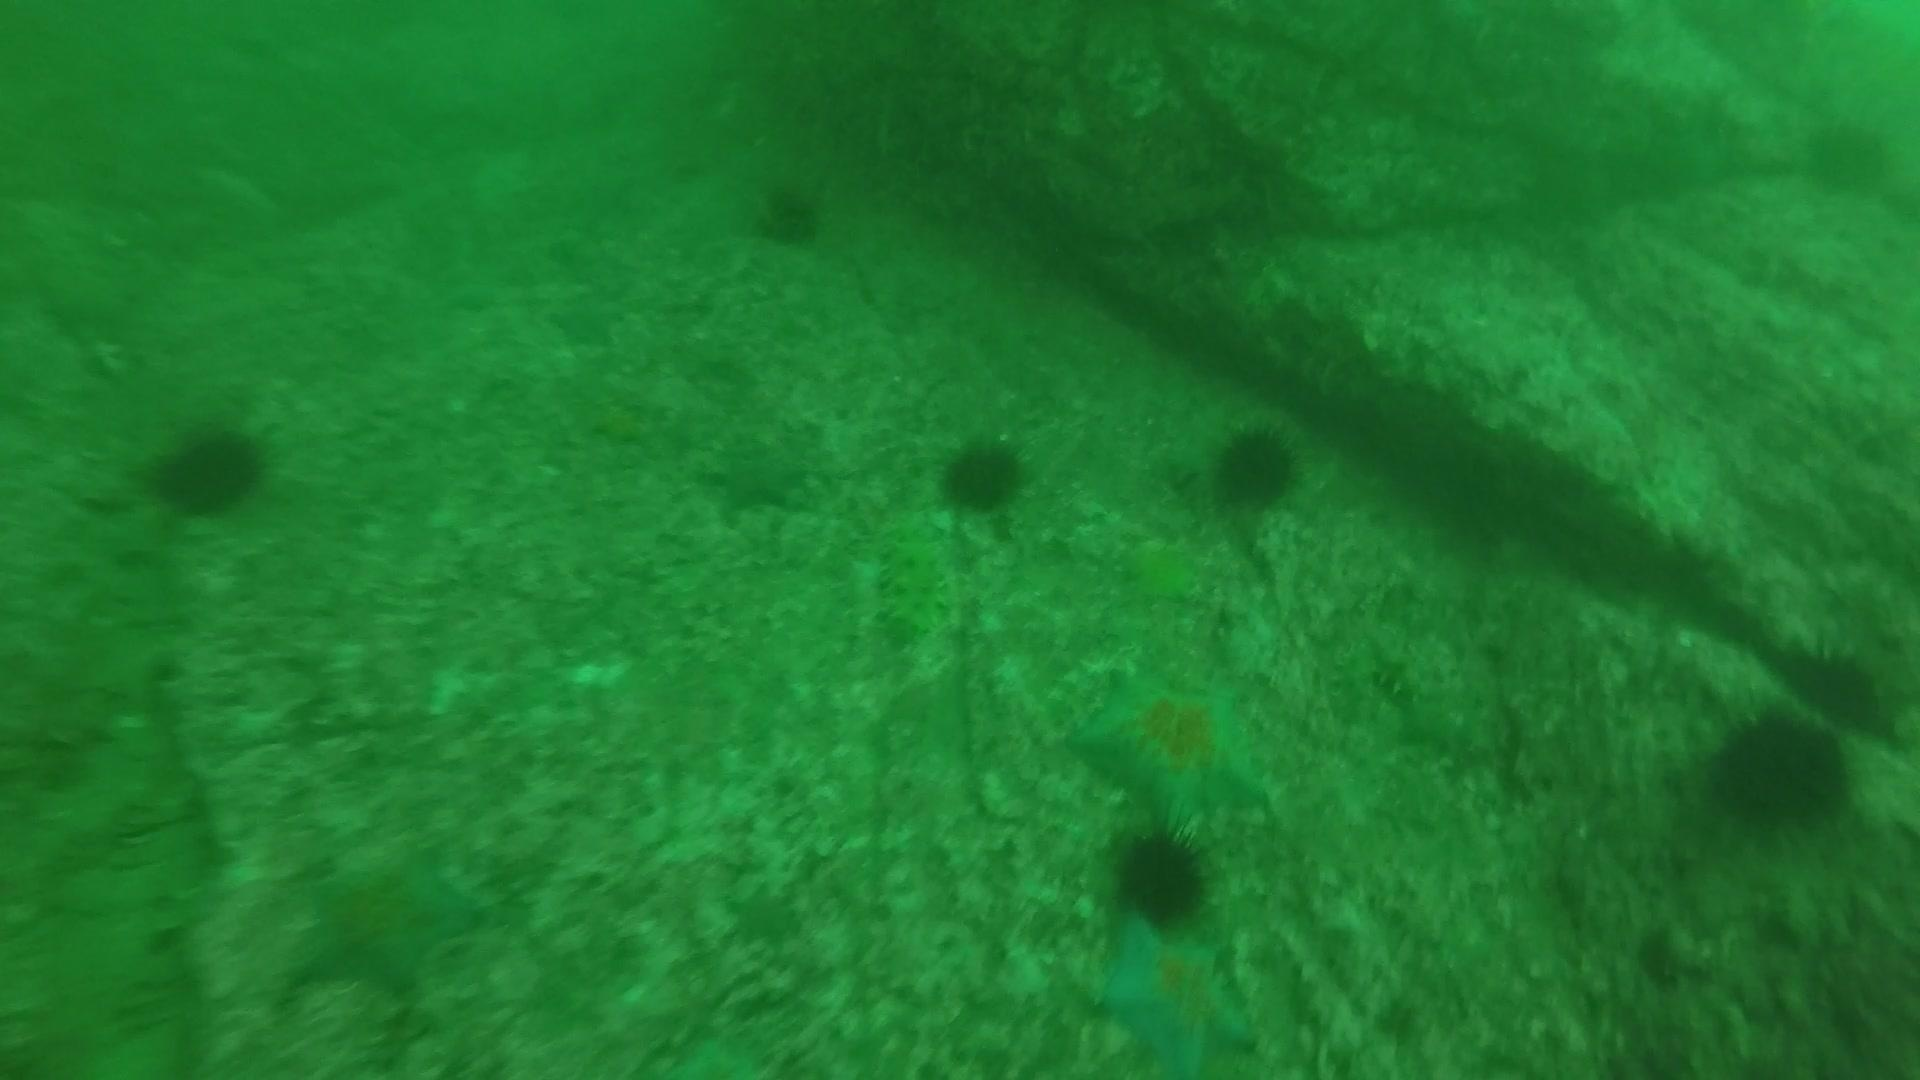echinus: (1701, 702, 1857, 836), (142, 418, 273, 522), (1104, 819, 1216, 931), (1774, 637, 1894, 737), (1204, 418, 1307, 516), (934, 430, 1033, 520), (1797, 112, 1896, 200), (748, 175, 829, 251)
holothurian: (866, 512, 959, 651)
starfish: (1063, 658, 1279, 832), (278, 837, 492, 1002), (1087, 913, 1263, 1077), (696, 426, 818, 517), (1114, 527, 1215, 611), (545, 290, 632, 352)
